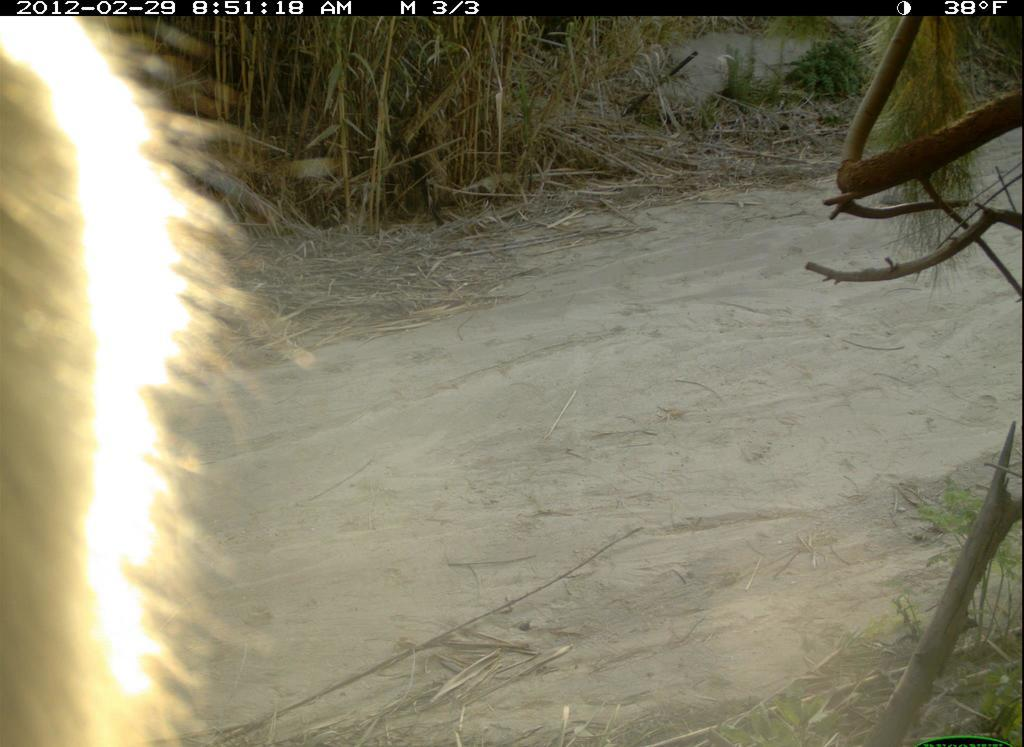coyote: (4, 20, 228, 729)
